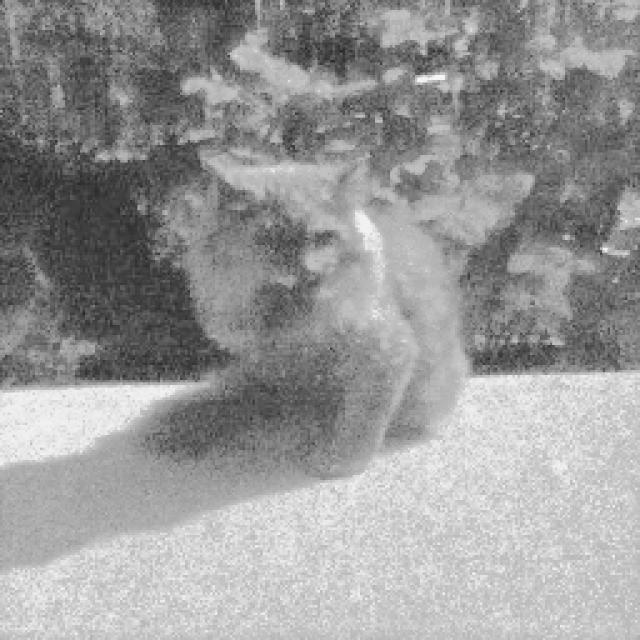cat: (155, 117, 510, 484)
